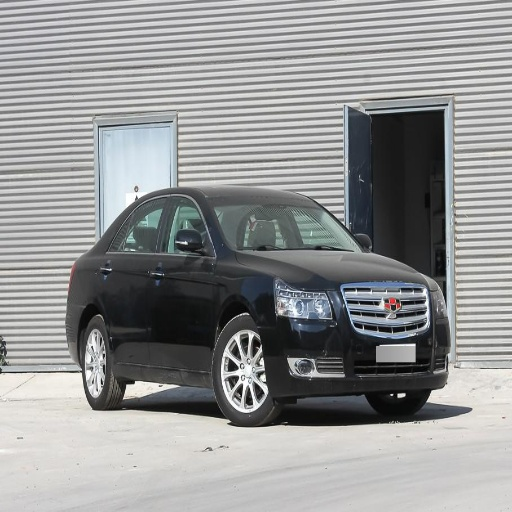front_bumper: (263, 281, 449, 394)
front_right_door: (150, 195, 215, 368)
front_right_light: (274, 279, 333, 321)
